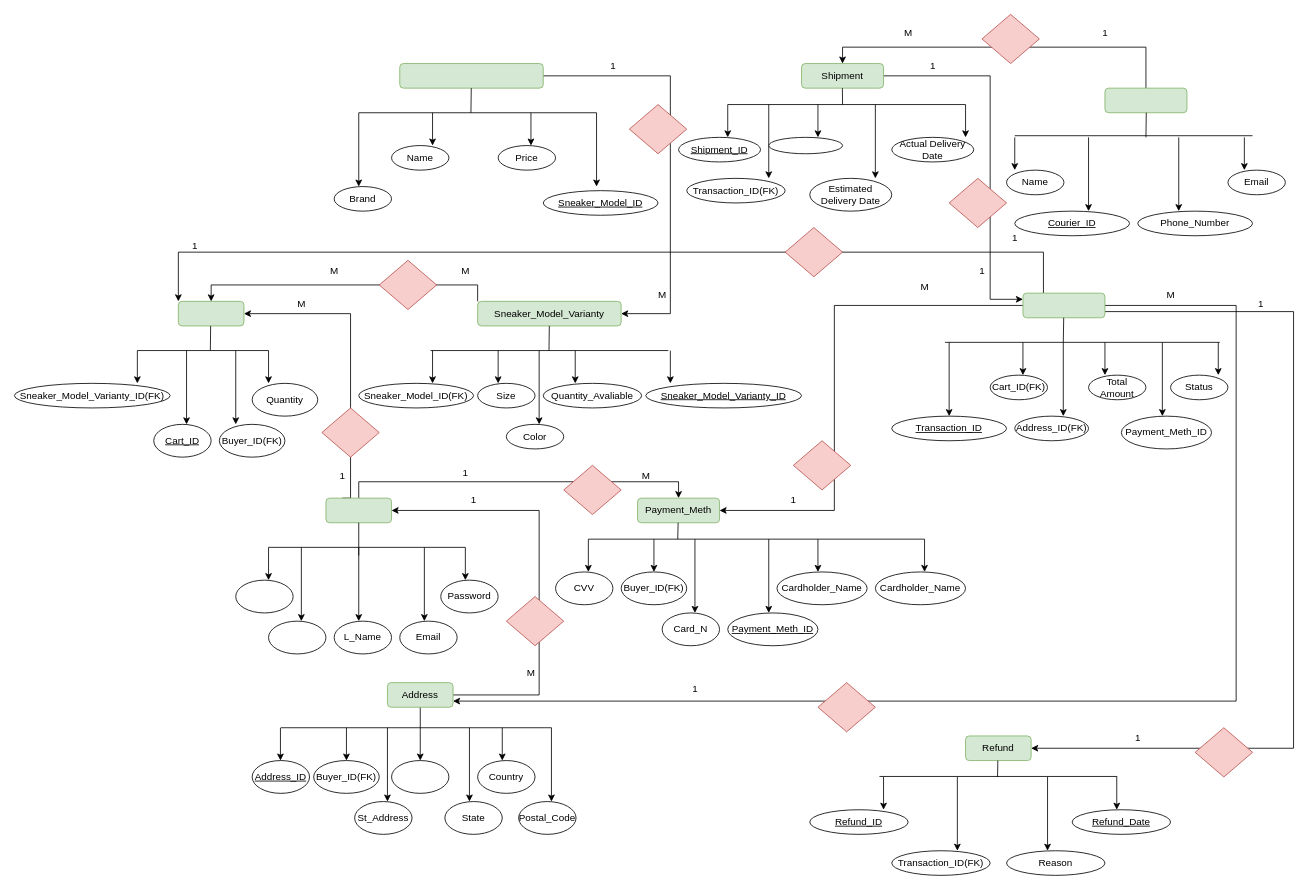
Some shapes in this 1314 by 890 pixel diagram are drawn without their labels. The centre of each missing label's shape, as x and y in pixels:
Buyer: the point at 358,510
Buyer_ID: the point at 264,596
Cart: the point at 211,313
City: the point at 420,776
Courier: the point at 1145,100
Courier_ID(FK): the point at 805,145
F_Name: the point at 297,637
Sneaker_Model: the point at 471,75
Transaction: the point at 1063,305
